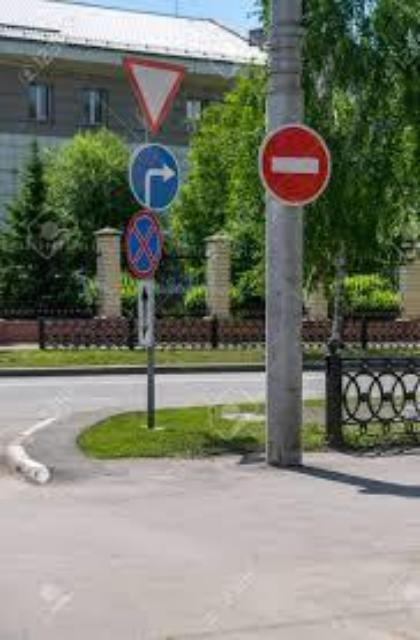B2: (254, 120, 332, 206)
